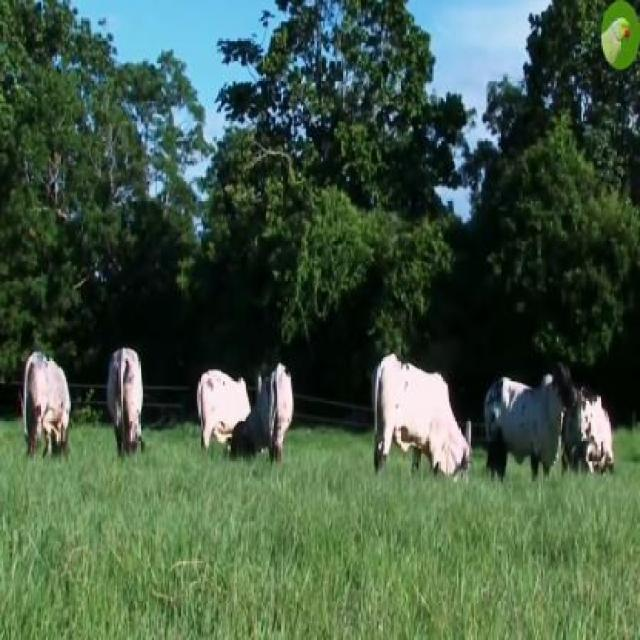Cow: (372, 355, 471, 488), (486, 372, 576, 500), (197, 366, 252, 454)
